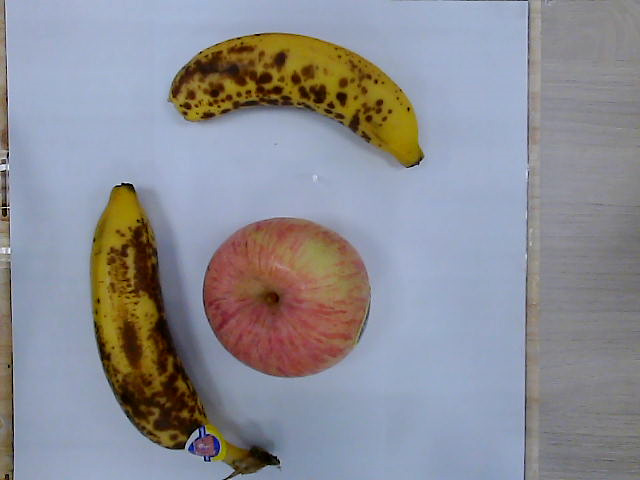fresh_apple: (202, 219, 372, 377)
rotten_banana: (86, 183, 275, 477), (168, 33, 426, 169)
